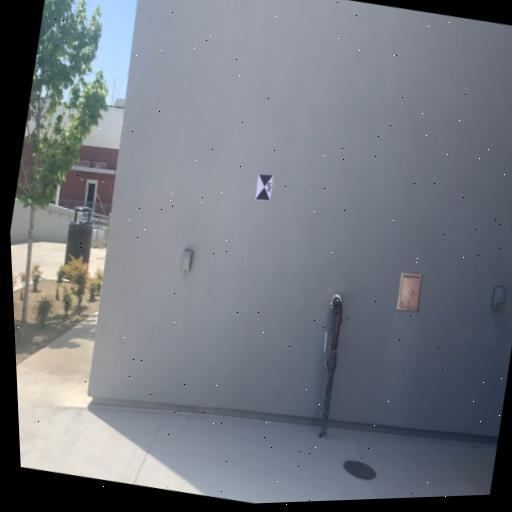target5: (254, 173, 275, 201)
